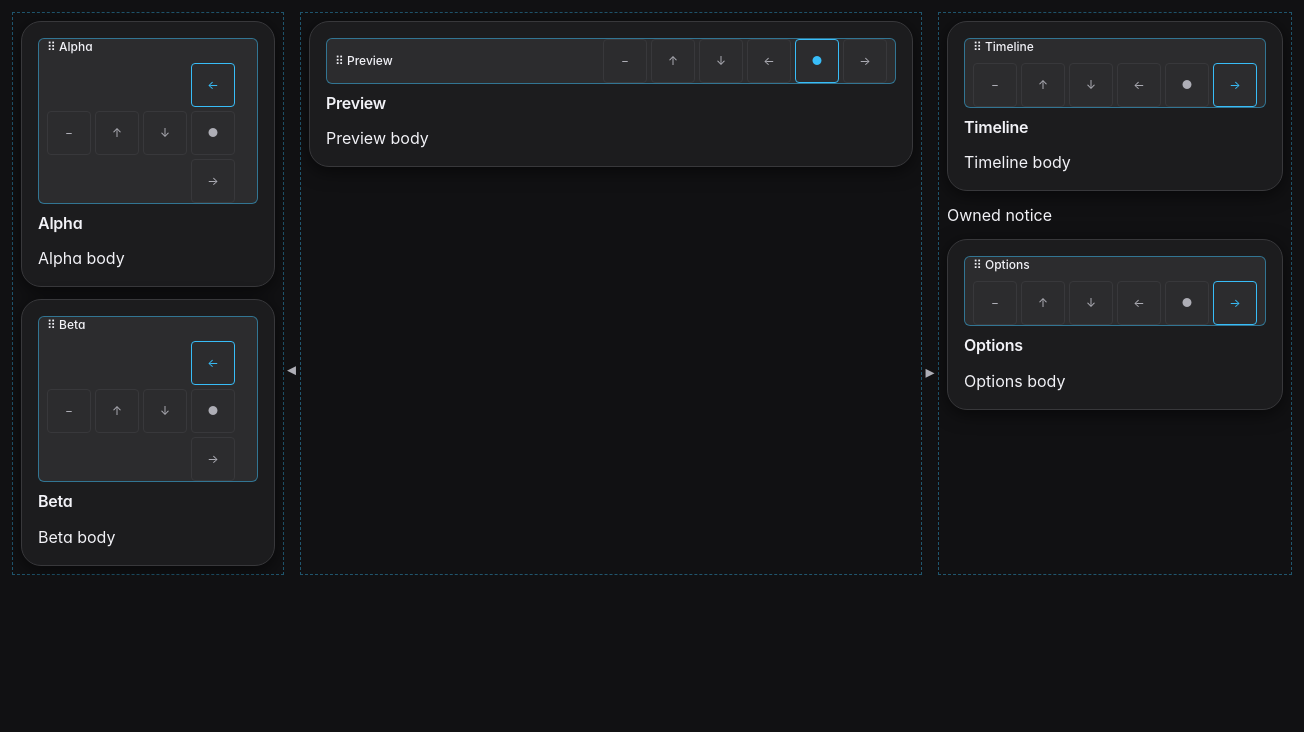
Scenario: customizable layouts › supports button-based ordering for touch screens and saves collapse state
Click the button named "Move Alpha down". click: (165, 133)
box: [143,111,187,155]
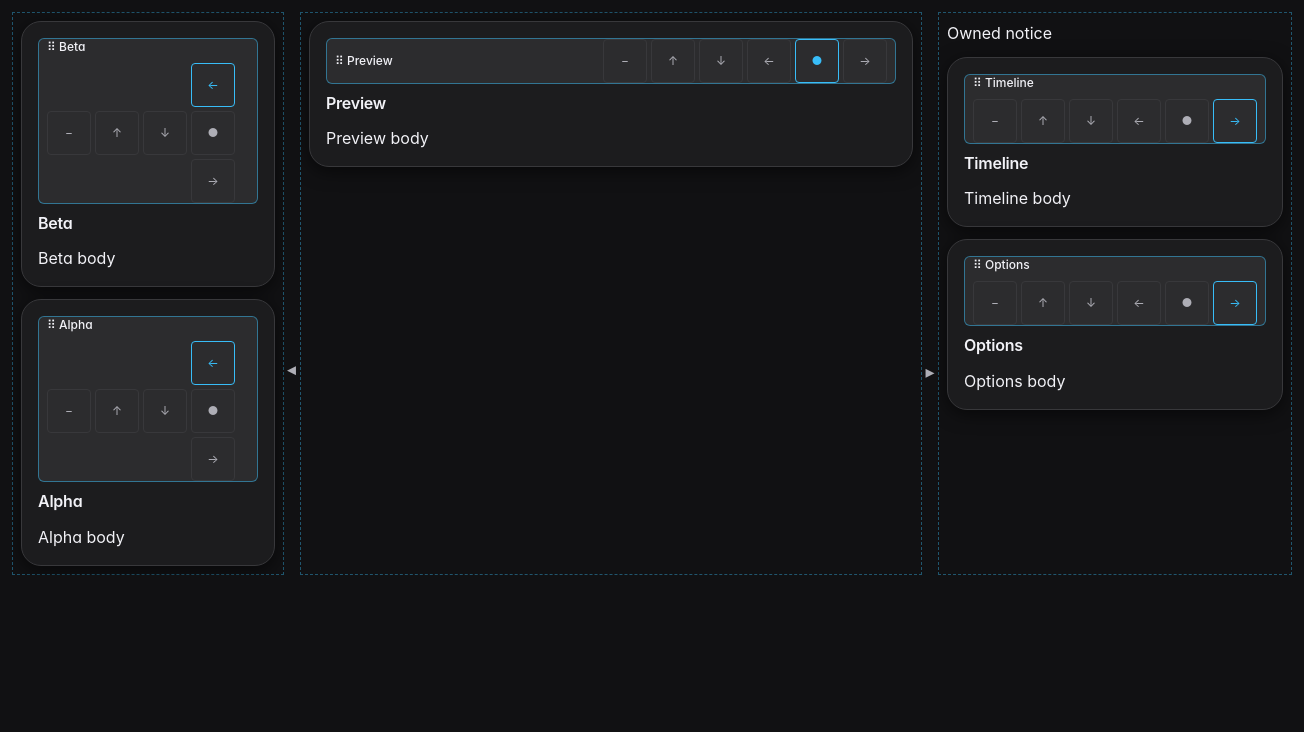
Click the button named "Collapse Alpha". click: (69, 411)
box: [47,389,91,433]
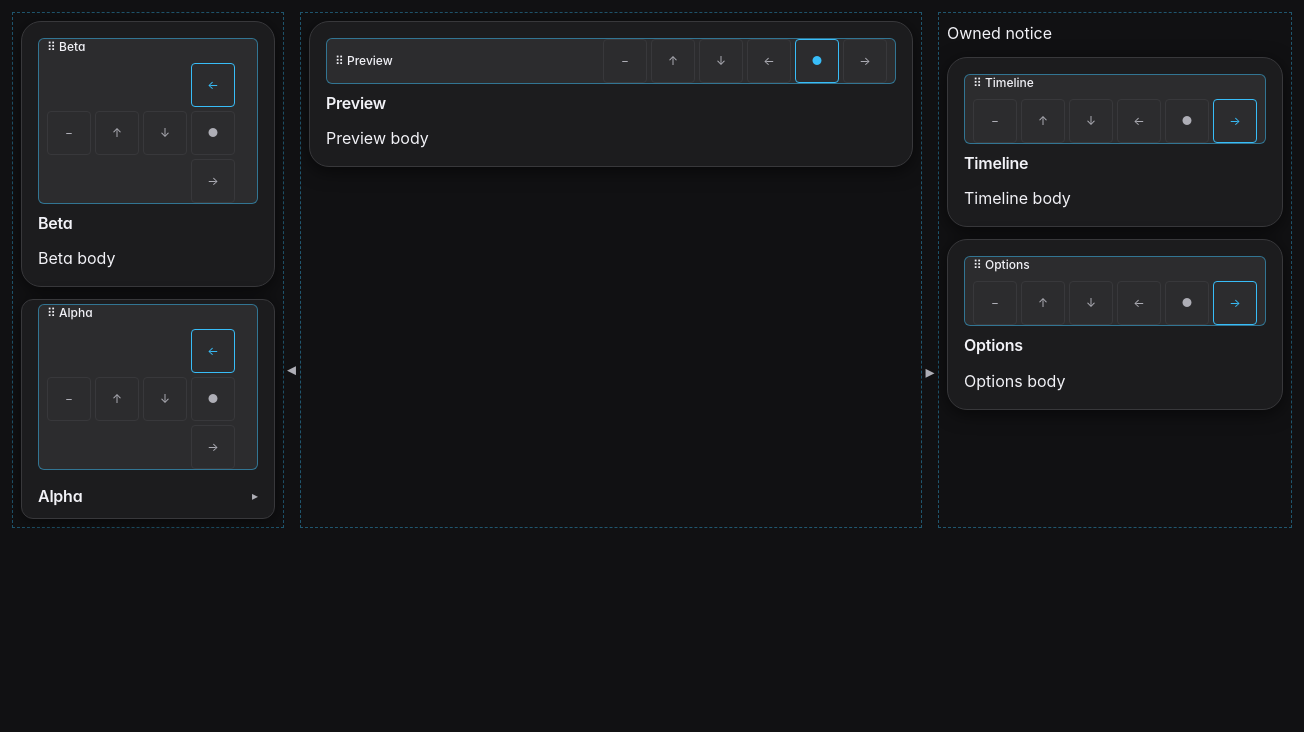
Check: the text "Alpha body" is gone
